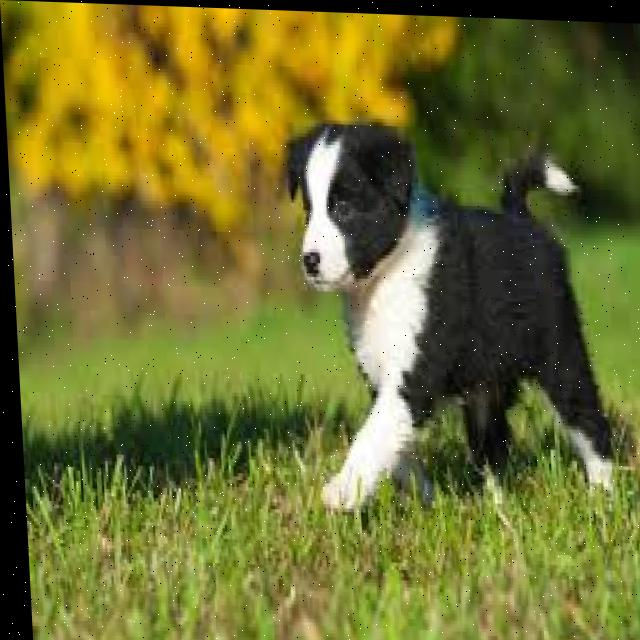ALASKAN_MALAMUTE: (260, 101, 636, 535)
